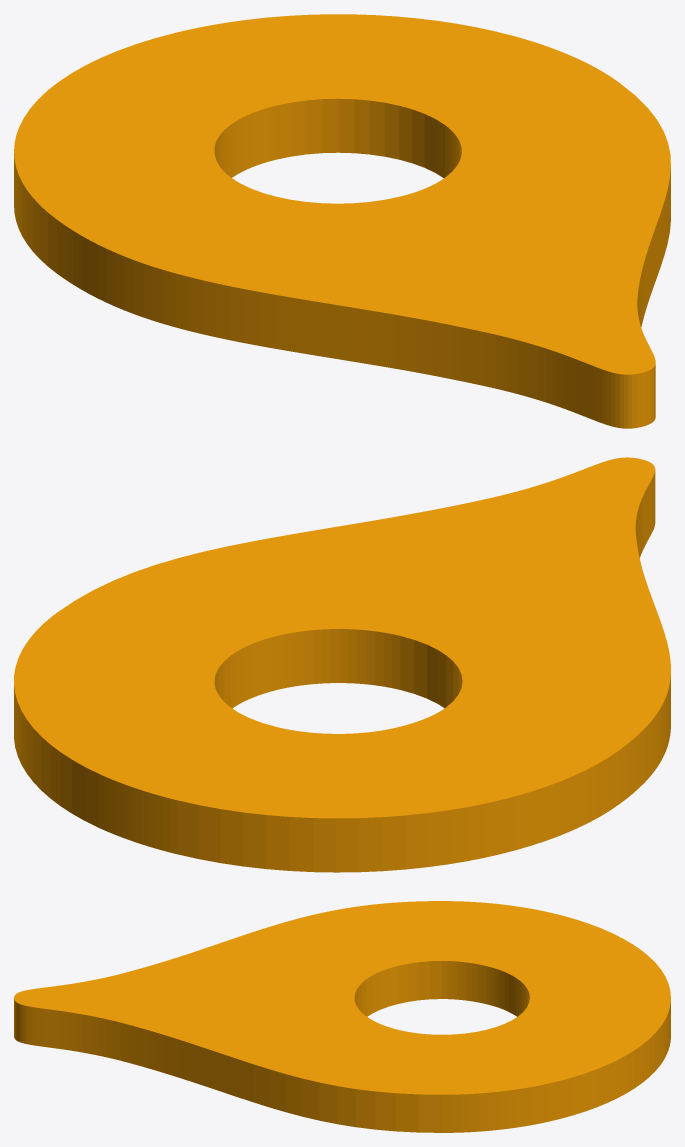
The model's file is orange.gltf.
3 renders of one model, top to bottom at view 1: azimuth 30°, elevation 25°; view 2: azimuth 150°, elevation 25°; view 3: azimuth 270°, elevation 25°, orthographic. The views are drawn at different scales.
Parts seen in each view (by area): view 1: Curve; view 2: Curve; view 3: Curve.
Part boxes in pixels (box(x1,y1,x2,y2)): Curve: box(14, 14, 670, 428); Curve: box(14, 457, 670, 872); Curve: box(14, 901, 670, 1132).
Size of the model in its own units: 3.86 by 0.3545 by 5.53.
